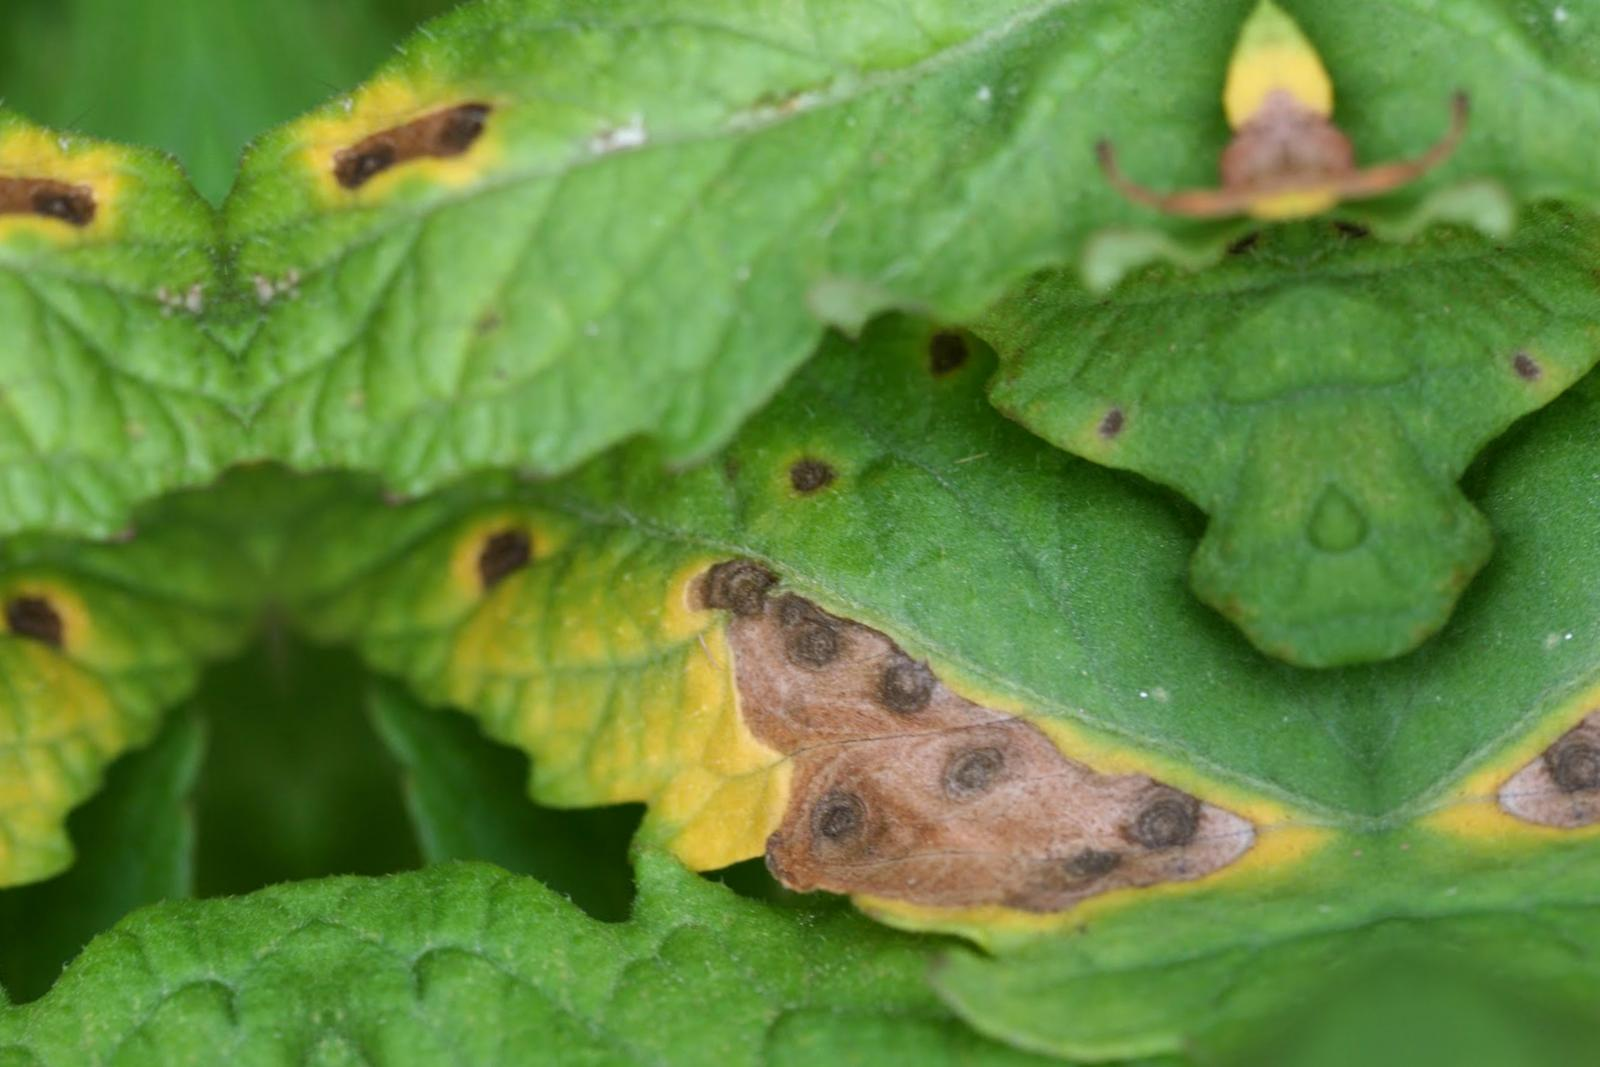Tomato leaf late blight: (280, 196, 1402, 1067), (186, 0, 1302, 556)
